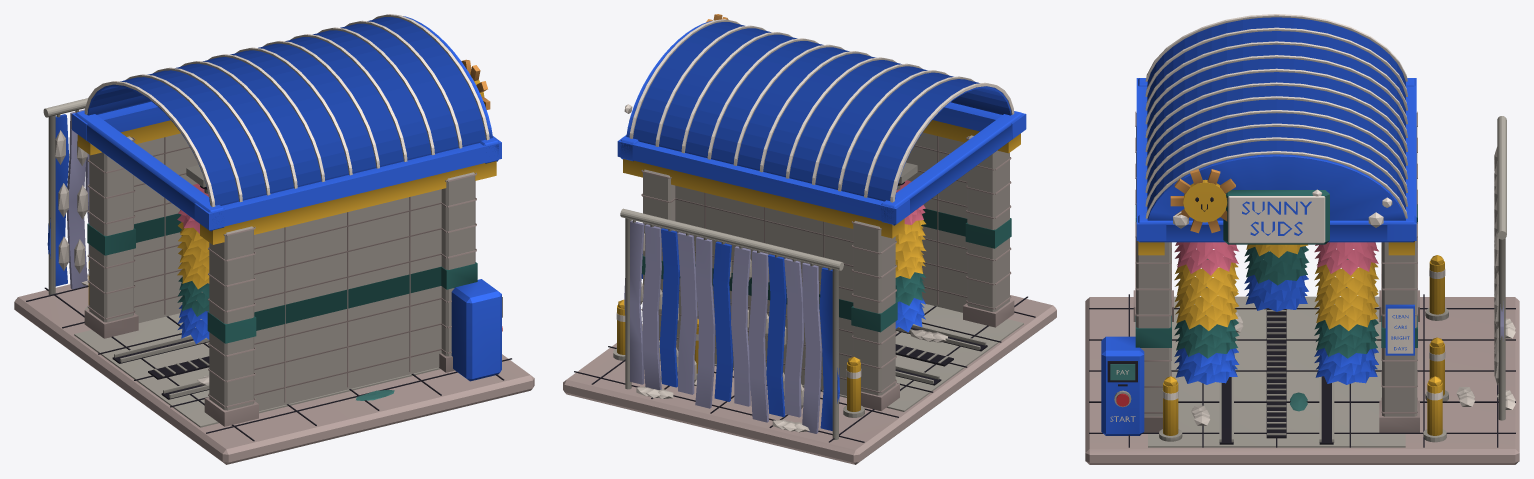
File: kit.car-wash.glb
The picture shows the model from 3 angles, left to right: view 1: azimuth 30°, elevation 25°; view 2: azimuth 150°, elevation 25°; view 3: azimuth 270°, elevation 25°; orthographic projection. The views are drawn at different scales.
Visible parts, largest first — view 1: roof, object 8, interior, curtain, brush_c; view 2: roof, object 8, curtain, interior, brush_c; view 3: object 8, roof, brush_b, brush_a, brush_c, curtain.
Boxes of the visible parts, box(x1,y1,x2,y2) form: roof: box(72, 14, 501, 244); object 8: box(14, 136, 534, 464); interior: box(134, 133, 441, 411); curtain: box(43, 98, 89, 294); brush_c: box(177, 183, 209, 343); roof: box(617, 14, 1026, 238); object 8: box(563, 135, 1056, 464); curtain: box(620, 208, 843, 439); interior: box(675, 132, 967, 395); brush_c: box(895, 180, 925, 332); object 8: box(1085, 111, 1519, 464); roof: box(1136, 14, 1416, 255); brush_b: box(1174, 242, 1239, 384); brush_a: box(1314, 242, 1378, 384); brush_c: box(1244, 244, 1309, 311); curtain: box(1494, 116, 1506, 420).
Bounding box in the file's own units: 5 × 4.58 × 5.9.
